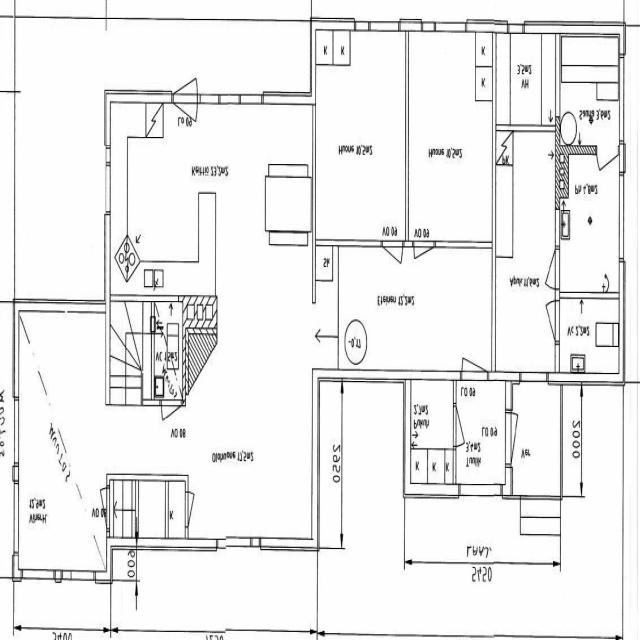door: (506, 413, 538, 464), (462, 320, 488, 381), (173, 91, 197, 152), (173, 42, 197, 102), (597, 146, 618, 198), (86, 488, 110, 530), (536, 249, 560, 289), (536, 301, 560, 341), (414, 241, 434, 287), (382, 241, 402, 287), (454, 406, 476, 446), (162, 400, 181, 444), (185, 492, 205, 527)
